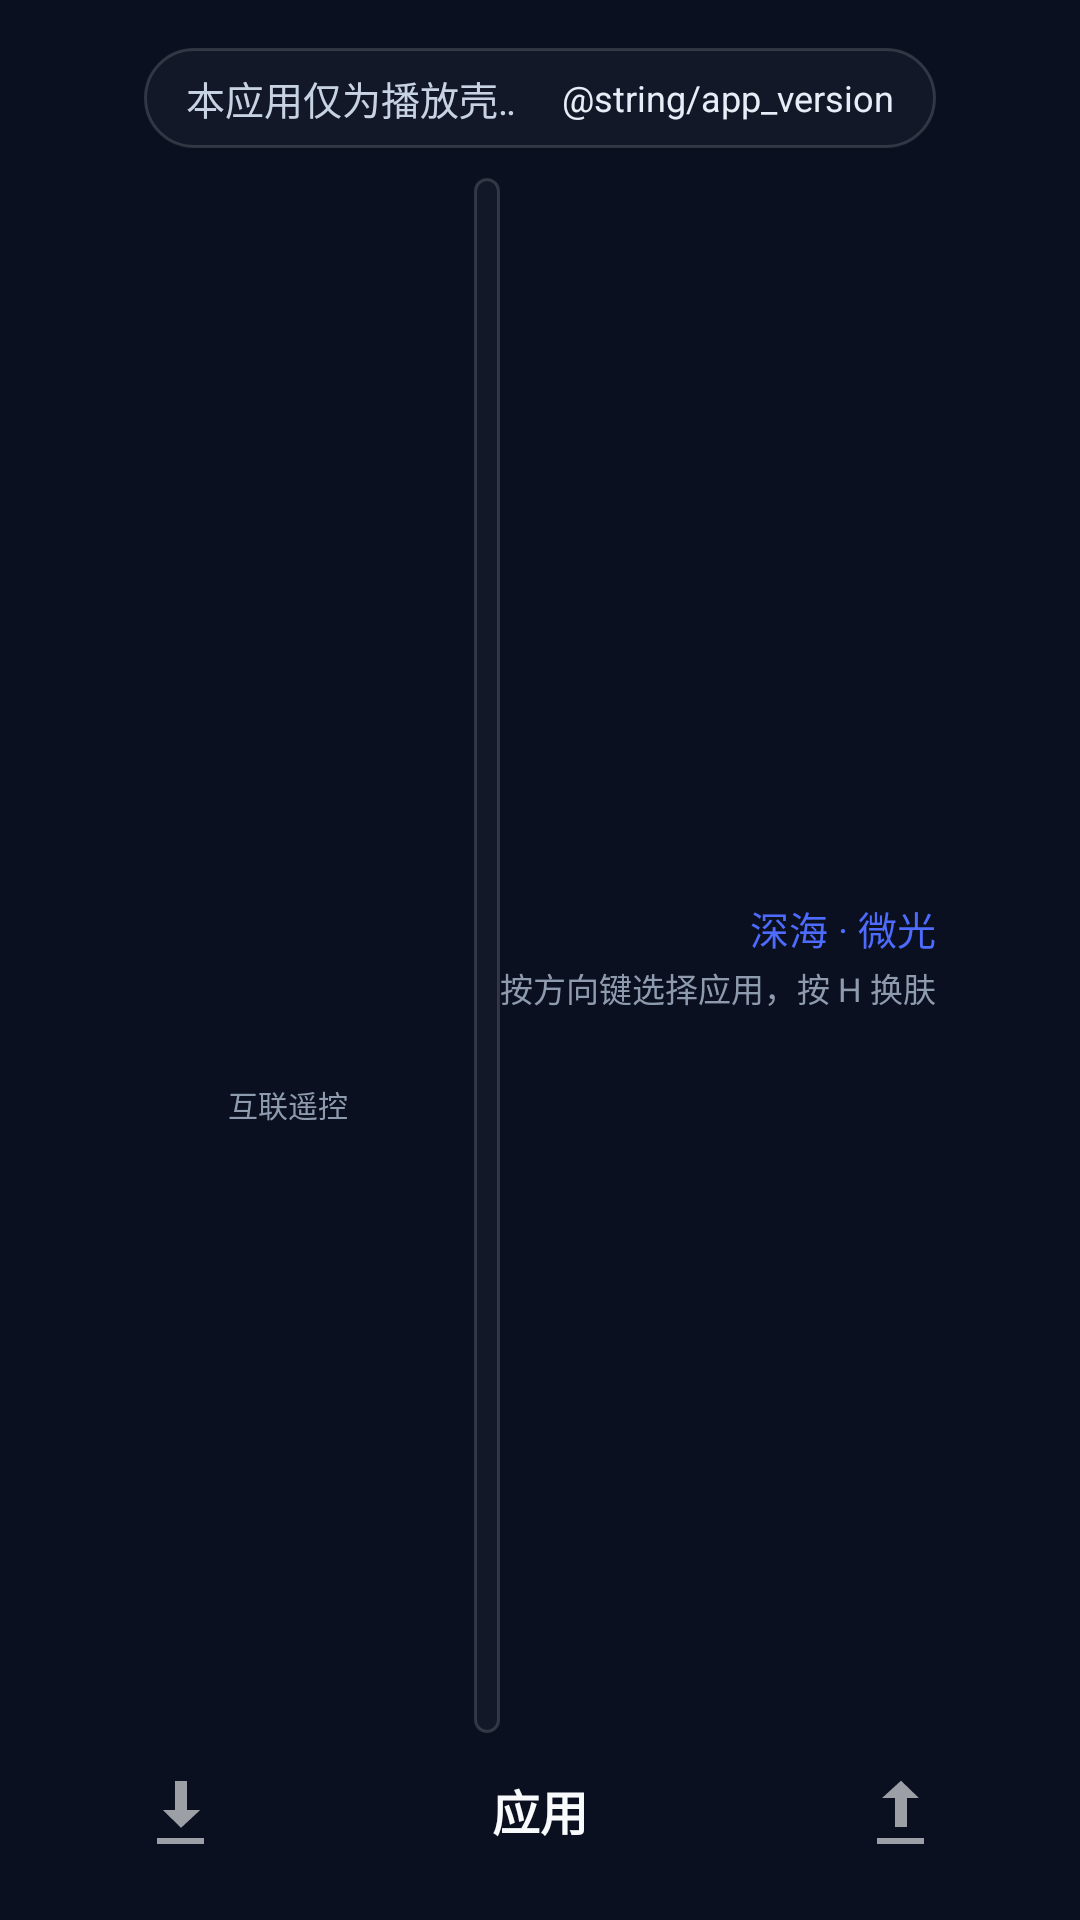

Icons on this 1080px×1920px Android screen, each with its box as detection(x1, y1, x2, y2):
上传中: detection(877, 1781, 924, 1844)
下载中: detection(157, 1781, 204, 1844)
